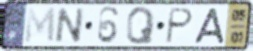6: (96, 5, 121, 46)
A: (192, 7, 227, 45)
M: (23, 6, 57, 45)
N: (53, 7, 87, 45)
P: (163, 7, 195, 46)
Q: (125, 6, 157, 46)
